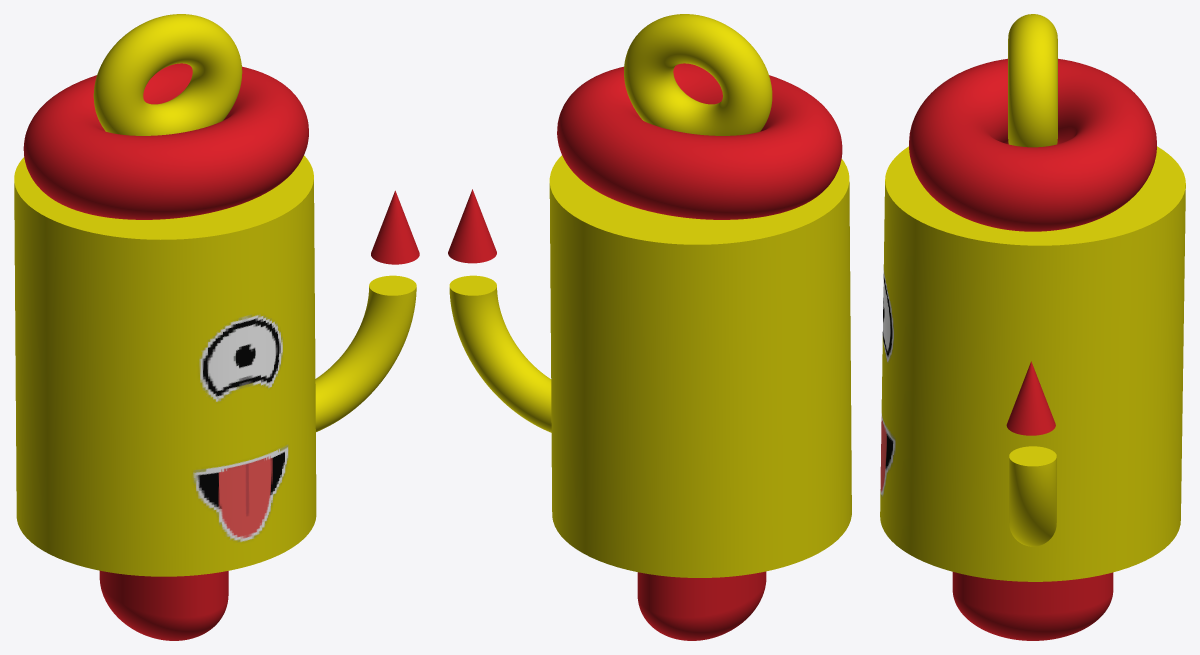
Rendered from red_yellow.fbx.
3 renders of one model, left to right at view 1: azimuth 30°, elevation 25°; view 2: azimuth 150°, elevation 25°; view 3: azimuth 270°, elevation 25°, orthographic.
Visible parts, largest first — view 1: root (×6); view 2: root (×6); view 3: root (×6).
Part boxes in pixels (x1,y1,x2,y2): root (×6): (14,14,419,640); root (×6): (448,14,851,640); root (×6): (880,14,1185,640).
Size of the model in its own units: 0.1158 by 0.1782 by 0.0804.
6 materials, 4 textured.
